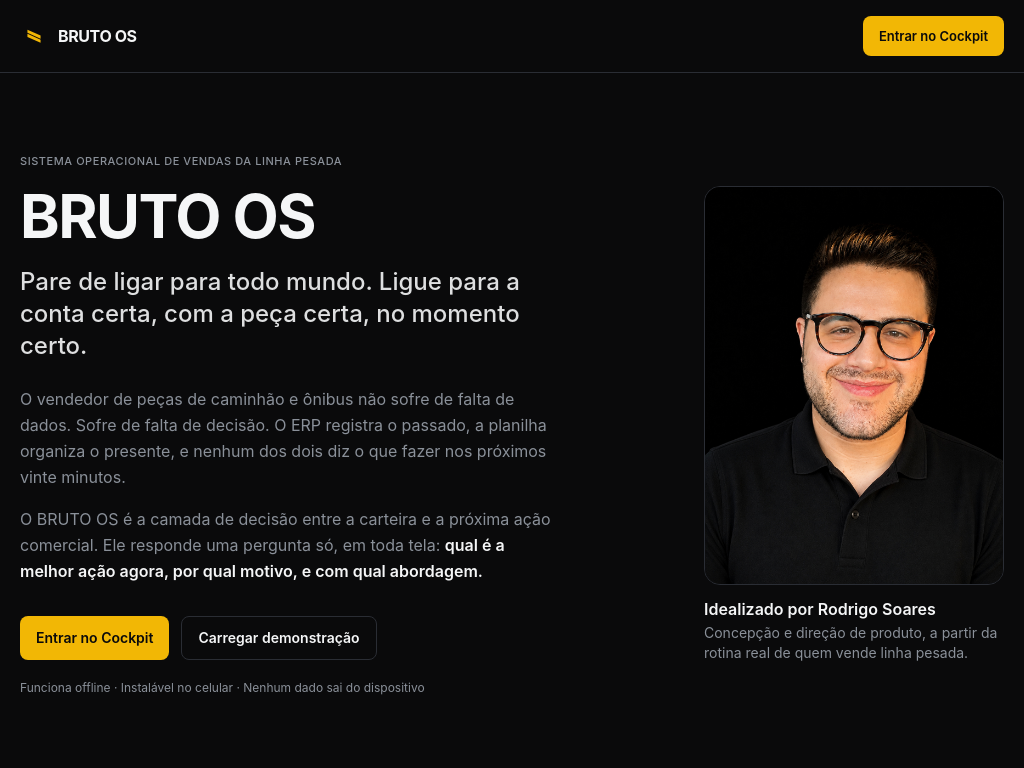
estado vazio do cockpit › não inventa dados, e oferece os três caminhos de entrada
Click the 1st link "Entrar no Cockpit".
click(933, 36)  # box [863,16,1004,56]
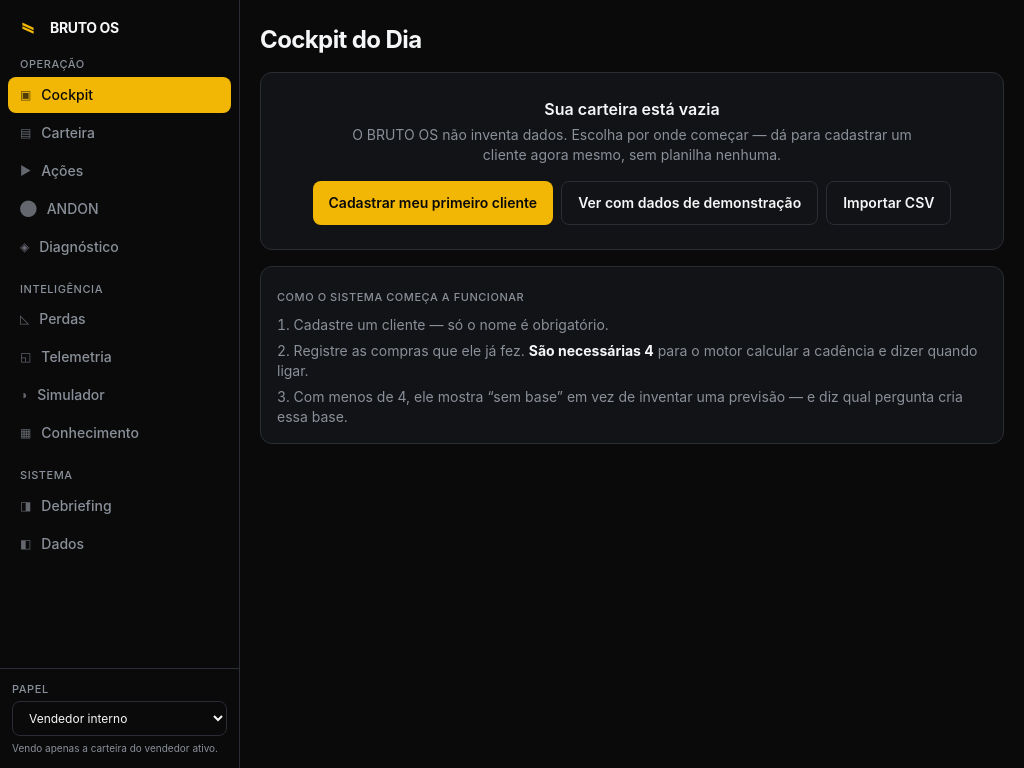
Check: the text "Sua carteira está vazia" is shown, box [544,99,720,119]
Check: the link "Cadastrar meu primeiro cliente" is shown, box [312,181,553,225]
Check: the button "Ver com dados de demonstração" is shown, box [561,181,818,225]
